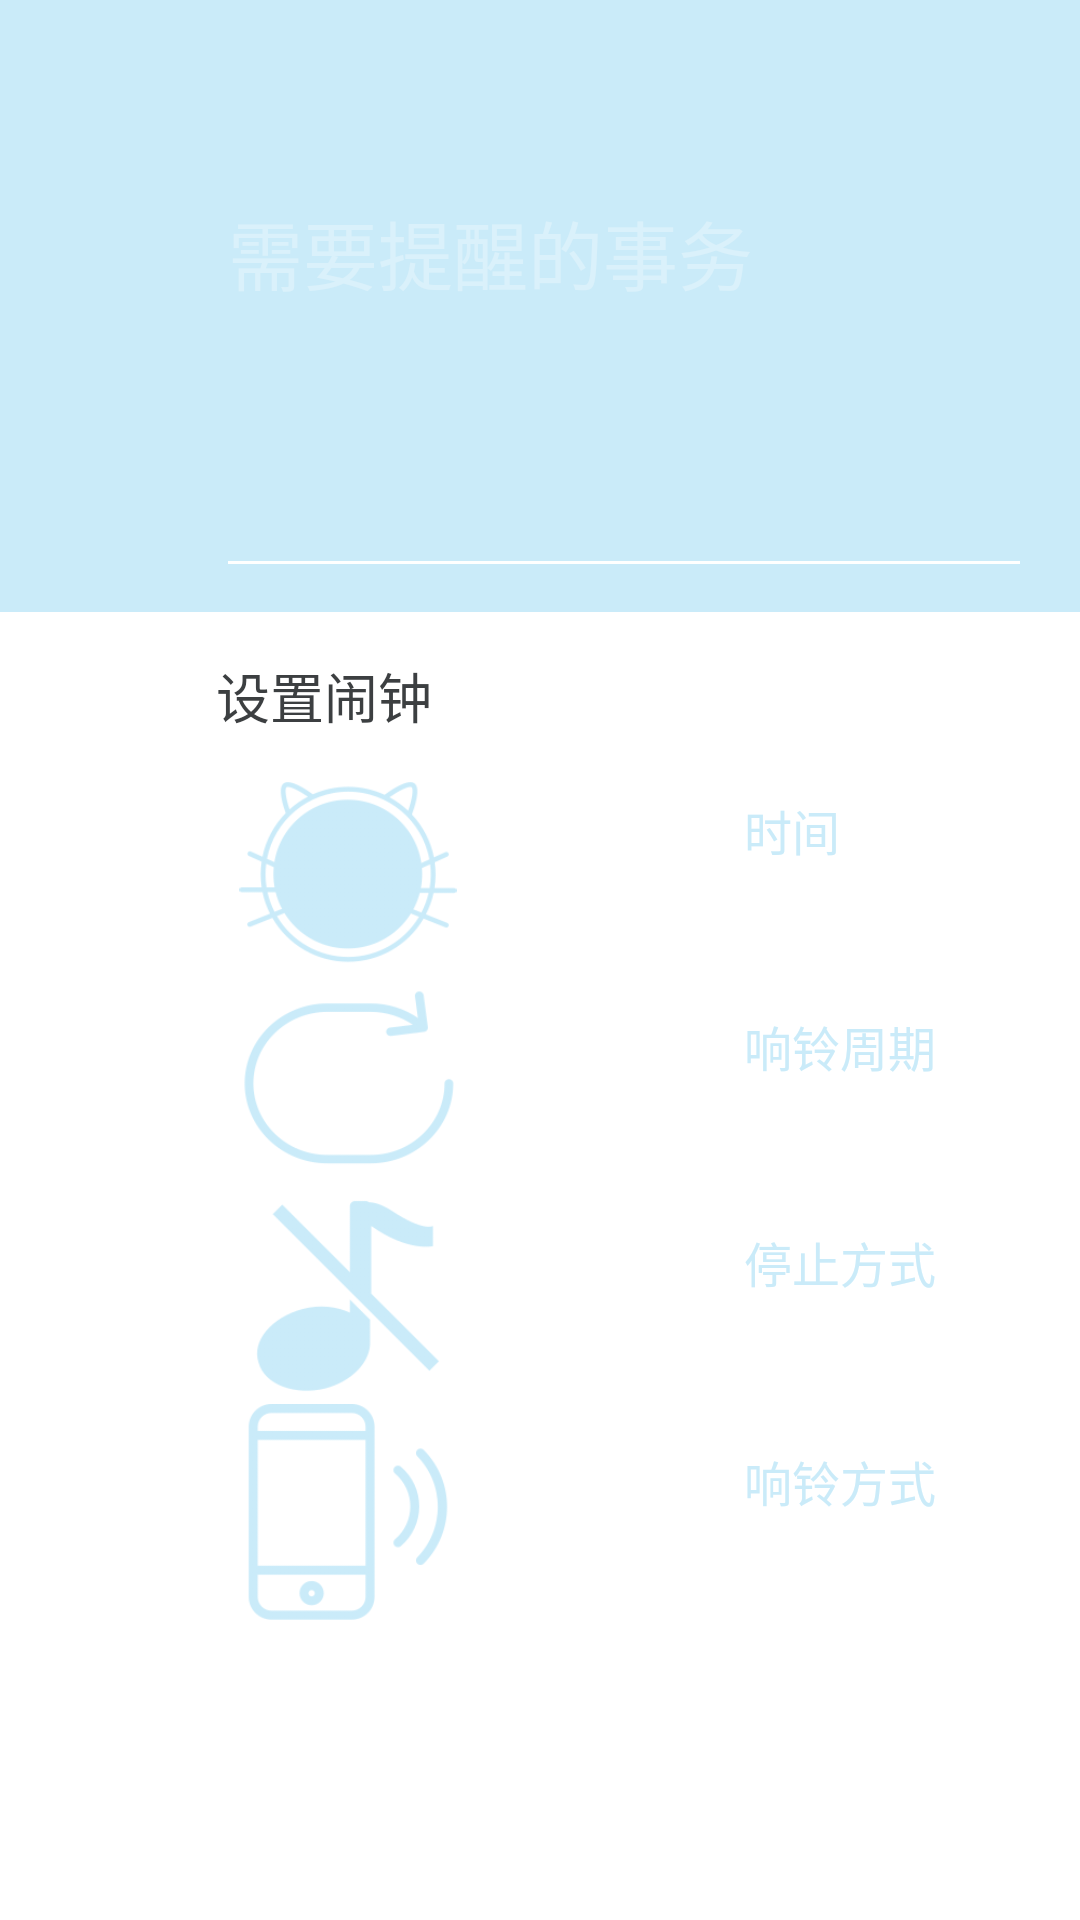

Where icons sit on this 1080px x 1920px app screen, as (x1, y1, x2, y2):
tingzhi: (257, 1201, 439, 1391)
xunhuan: (245, 991, 453, 1163)
